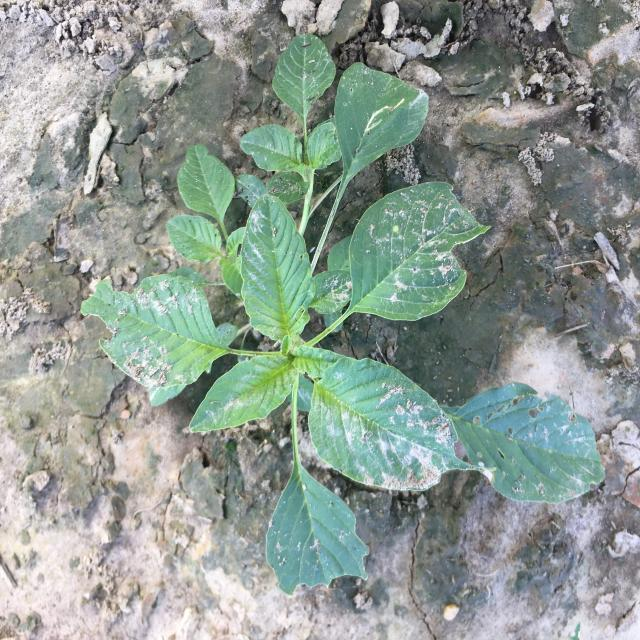PalmerAmaranth: (80, 34, 606, 595)
